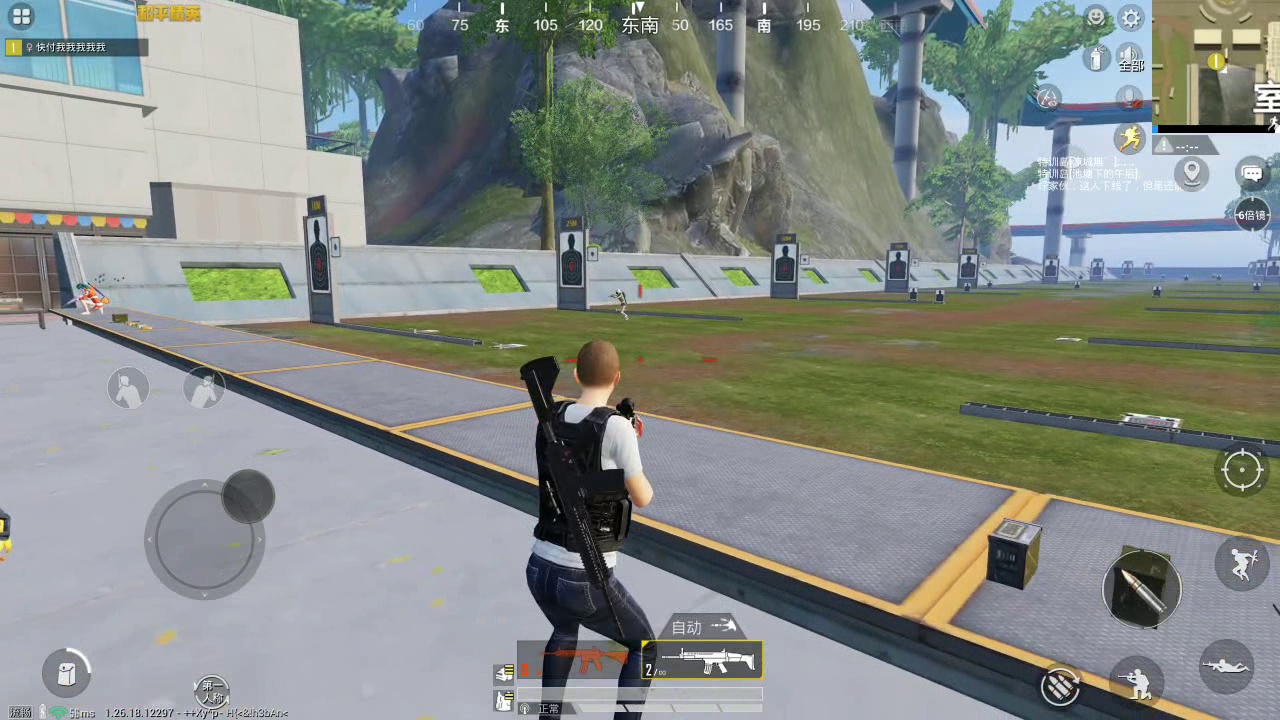enemy: (69, 282, 106, 318), (609, 285, 631, 322)
